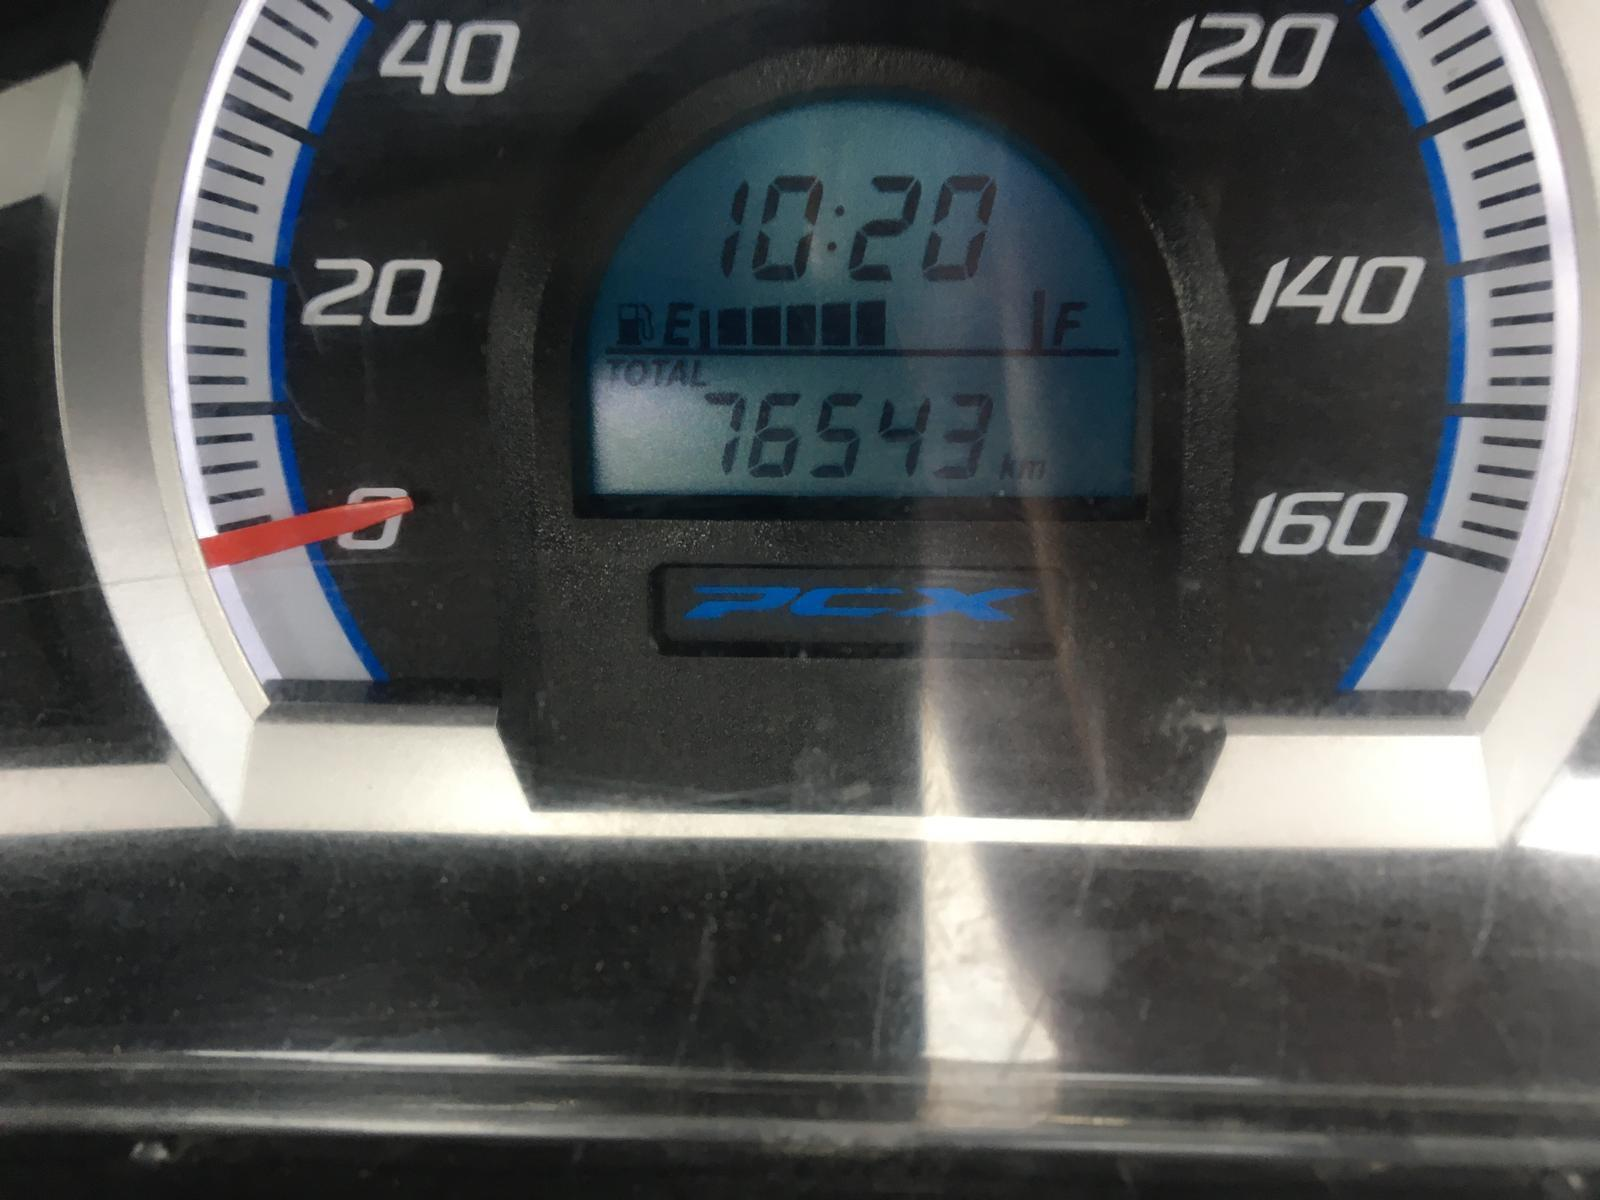0: (921, 165, 999, 284), (752, 169, 820, 285)
1: (716, 173, 755, 284)
2: (845, 168, 922, 287)
3: (935, 384, 997, 483)
4: (876, 392, 935, 480)
5: (814, 384, 868, 479)
6: (747, 384, 806, 479)
7: (698, 389, 747, 478)
X: (1049, 296, 1092, 348), (660, 295, 697, 345), (823, 198, 847, 255), (1017, 458, 1049, 483), (603, 355, 626, 389), (624, 357, 648, 388), (650, 354, 670, 388), (690, 355, 709, 389), (666, 357, 687, 388), (998, 451, 1018, 482)
odometer: (562, 81, 1157, 516)
